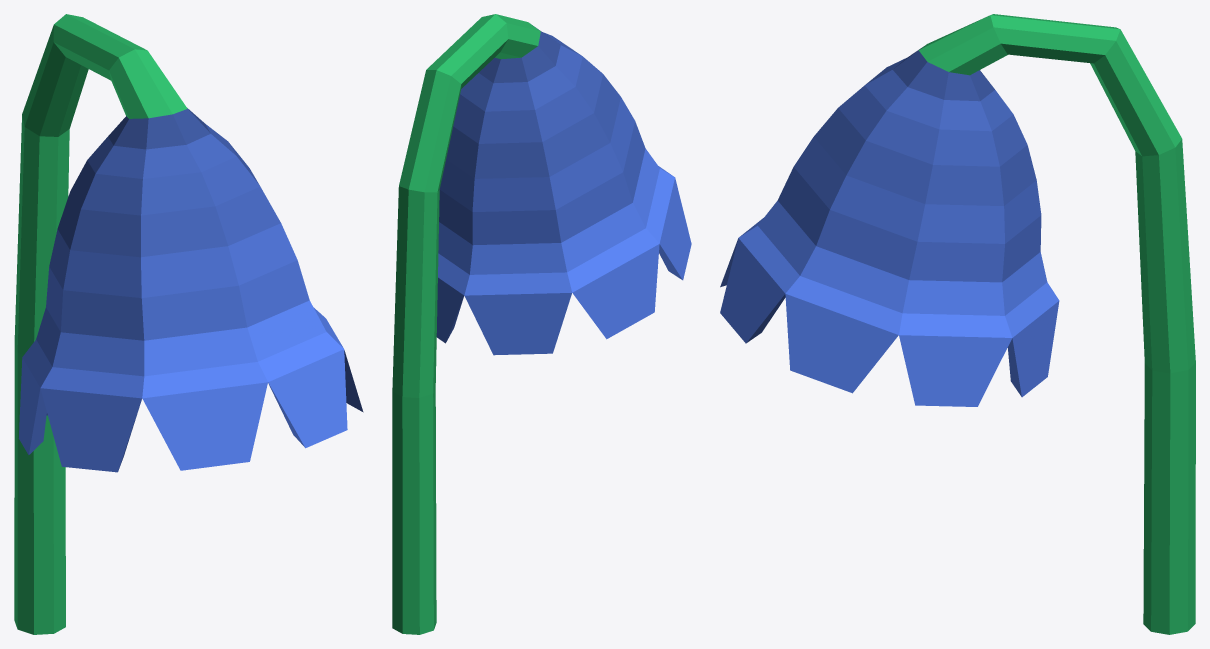
File: Flower2.fbx
3 renders of one model, left to right at view 1: azimuth 30°, elevation 25°; view 2: azimuth 150°, elevation 25°; view 3: azimuth 270°, elevation 25°, orthographic. The views are drawn at different scales.
Visible parts, largest first — view 1: Sphere; view 2: Sphere; view 3: Sphere.
Boxes of the visible parts, x1,y1,x2,y2 form: Sphere: [14, 14, 363, 634]; Sphere: [392, 14, 691, 634]; Sphere: [720, 14, 1195, 634].
Bounding box in the file's own units: 156 × 328 × 232.
